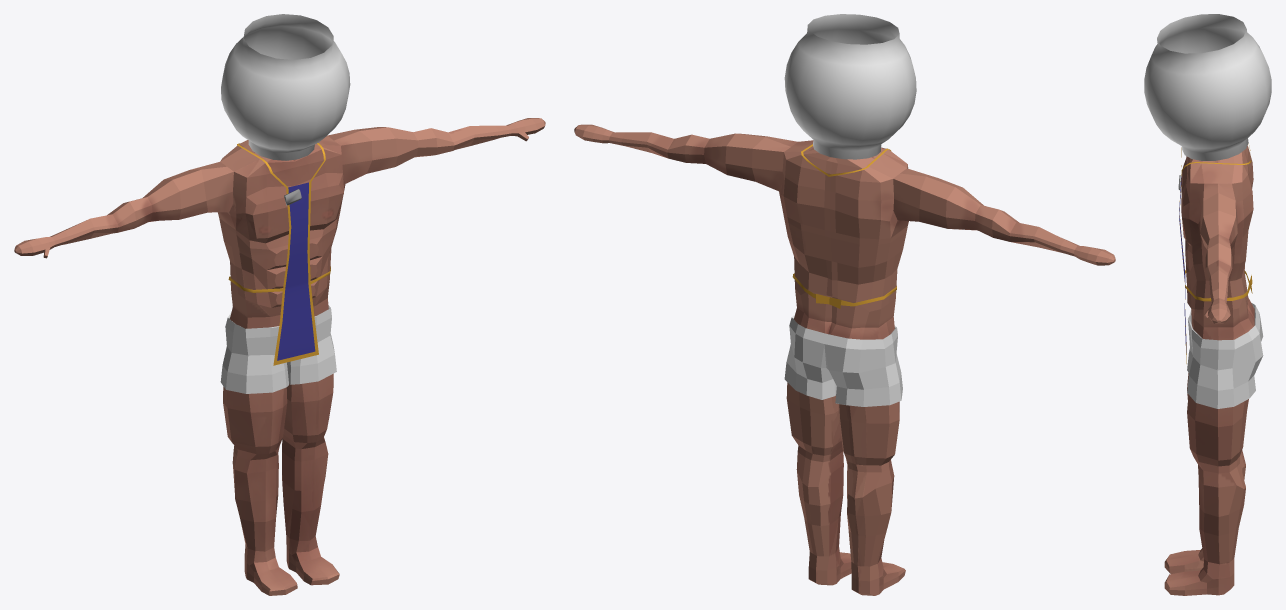
Rendered from Pirate Minion Model.fbx.
The picture shows the model from 3 angles, left to right: view 1: azimuth 30°, elevation 25°; view 2: azimuth 150°, elevation 25°; view 3: azimuth 270°, elevation 25°; orthographic projection.
Visible parts, largest first — view 1: Body, Head, Pants, Apron; view 2: Body, Head, Pants, Apron; view 3: Body, Head, Pants, Apron.
Part boxes in pixels (x1=…): Body: x1=14, y1=118, x2=545, y2=595; Head: x1=221, y1=14, x2=350, y2=160; Pants: x1=220, y1=305, x2=336, y2=393; Apron: x1=228, y1=143, x2=330, y2=365; Body: x1=574, y1=124, x2=1115, y2=595; Head: x1=784, y1=14, x2=916, y2=159; Pants: x1=784, y1=315, x2=902, y2=406; Apron: x1=792, y1=144, x2=896, y2=308; Body: x1=1164, y1=145, x2=1254, y2=595; Head: x1=1144, y1=14, x2=1271, y2=160; Pants: x1=1187, y1=303, x2=1263, y2=408; Apron: x1=1178, y1=144, x2=1252, y2=363.
Bounding box in the file's own units: 1128 × 1110 × 234.
